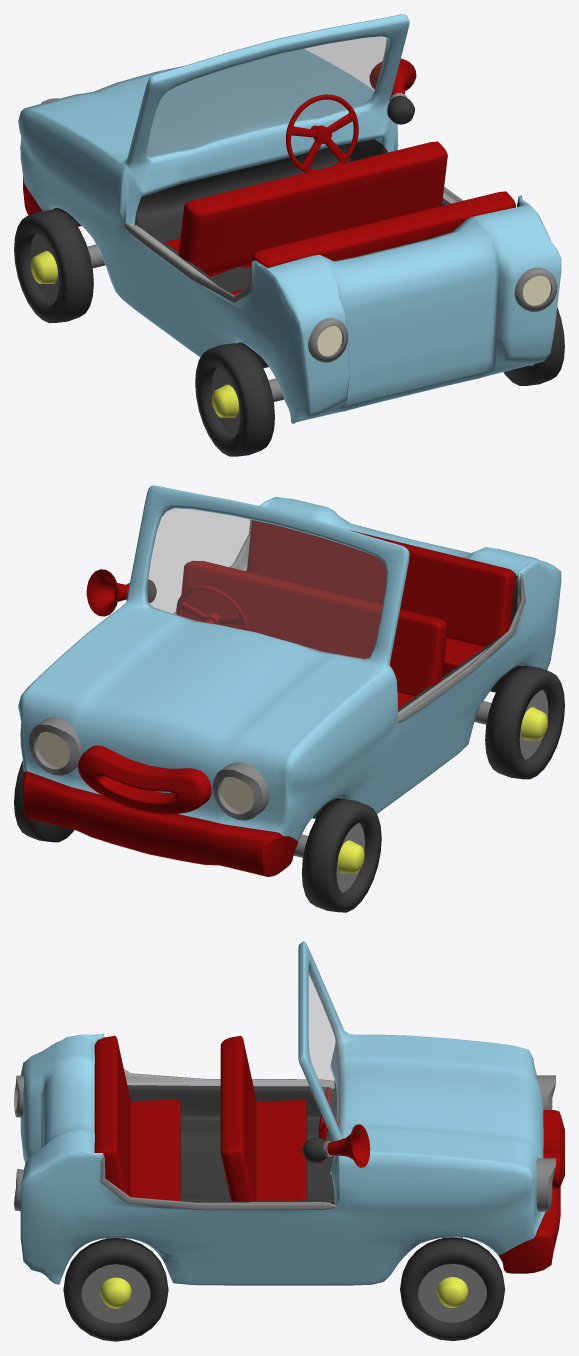
The model's file is SM_CarPlayer01.fbx.
3 renders of one model, top to bottom at view 1: azimuth 30°, elevation 25°; view 2: azimuth 150°, elevation 25°; view 3: azimuth 270°, elevation 25°, orthographic. The views are drawn at different scales.
Visible parts, largest first — view 1: ClownCar_Body, ClownCar_Windsheild, ClownCar_WheelsBack, ClownCar_WheelsFrontLeft, ClownCar_SteeringWheel, ClownCar_Horn; view 2: ClownCar_Body, ClownCar_Windsheild, ClownCar_WheelsBack, ClownCar_WheelsFrontLeft, ClownCar_Horn, ClownCar_WheelsFrontRight, ClownCar_SteeringWheel; view 3: ClownCar_Body, ClownCar_WheelsBack, ClownCar_WheelsFrontRight, ClownCar_Windsheild, ClownCar_Horn.
Part boxes in pixels (bbox=[...]): ClownCar_Body: bbox=[18, 14, 561, 423]; ClownCar_Windsheild: bbox=[147, 36, 388, 157]; ClownCar_WheelsBack: bbox=[195, 307, 564, 456]; ClownCar_WheelsFrontLeft: bbox=[14, 209, 93, 323]; ClownCar_SteeringWheel: bbox=[286, 94, 358, 172]; ClownCar_Horn: bbox=[369, 58, 416, 124]; ClownCar_Body: bbox=[18, 485, 561, 876]; ClownCar_Windsheild: bbox=[145, 508, 386, 660]; ClownCar_WheelsBack: bbox=[474, 666, 564, 779]; ClownCar_WheelsFrontLeft: bbox=[302, 799, 381, 912]; ClownCar_Horn: bbox=[86, 569, 156, 616]; ClownCar_WheelsFrontRight: bbox=[14, 761, 74, 842]; ClownCar_SteeringWheel: bbox=[176, 585, 248, 630]; ClownCar_Body: bbox=[14, 941, 564, 1285]; ClownCar_WheelsBack: bbox=[63, 1237, 168, 1341]; ClownCar_WheelsFrontRight: bbox=[400, 1237, 504, 1341]; ClownCar_Windsheild: bbox=[309, 968, 344, 1137]; ClownCar_Horn: bbox=[302, 1124, 370, 1167].
Bounding box in the file's own units: 9.69 × 8.54 × 15.25.
